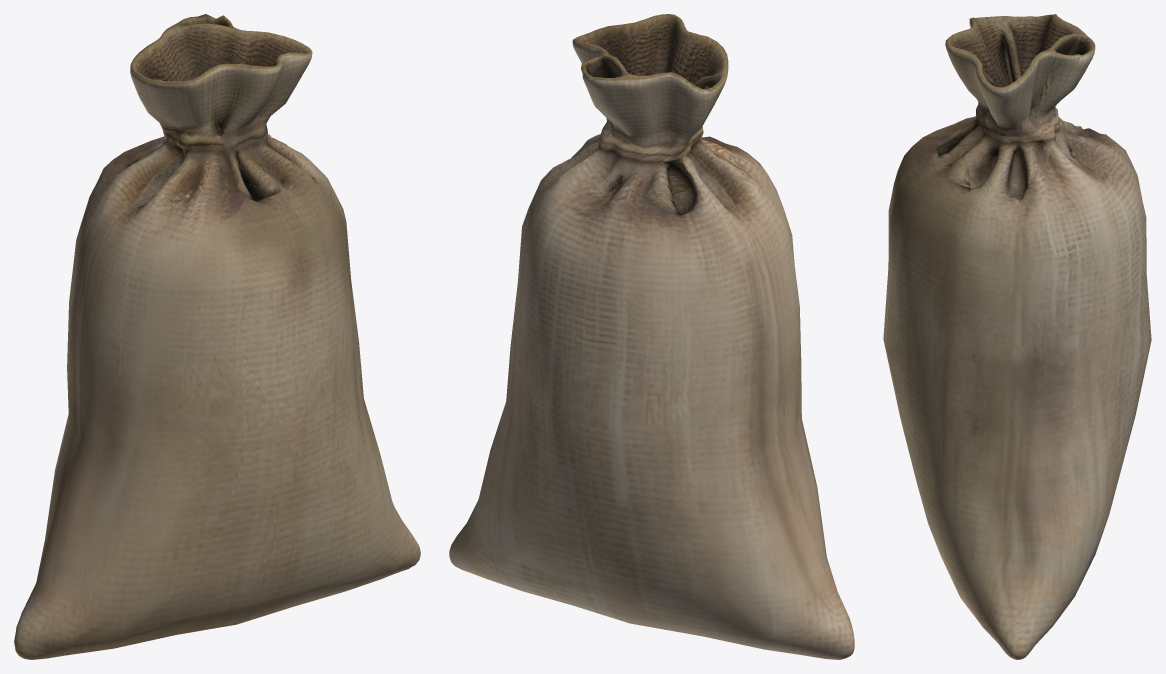
The model's file is Burlap_Sack_1115035850_texture.fbx.
3 views of the same model, side by side, from view 1: azimuth 30°, elevation 25°; view 2: azimuth 150°, elevation 25°; view 3: azimuth 270°, elevation 25° (orthographic). The views are drawn at different scales.
Visible parts, largest first — view 1: input; view 2: input; view 3: input.
Boxes of the visible parts, <box> form: input: <box>14,14,420,659</box>; input: <box>449,14,854,659</box>; input: <box>883,14,1151,659</box>.
Size of the model in its own units: 141 by 191 by 85.96.
Materials: 1 (1 with a texture image).
